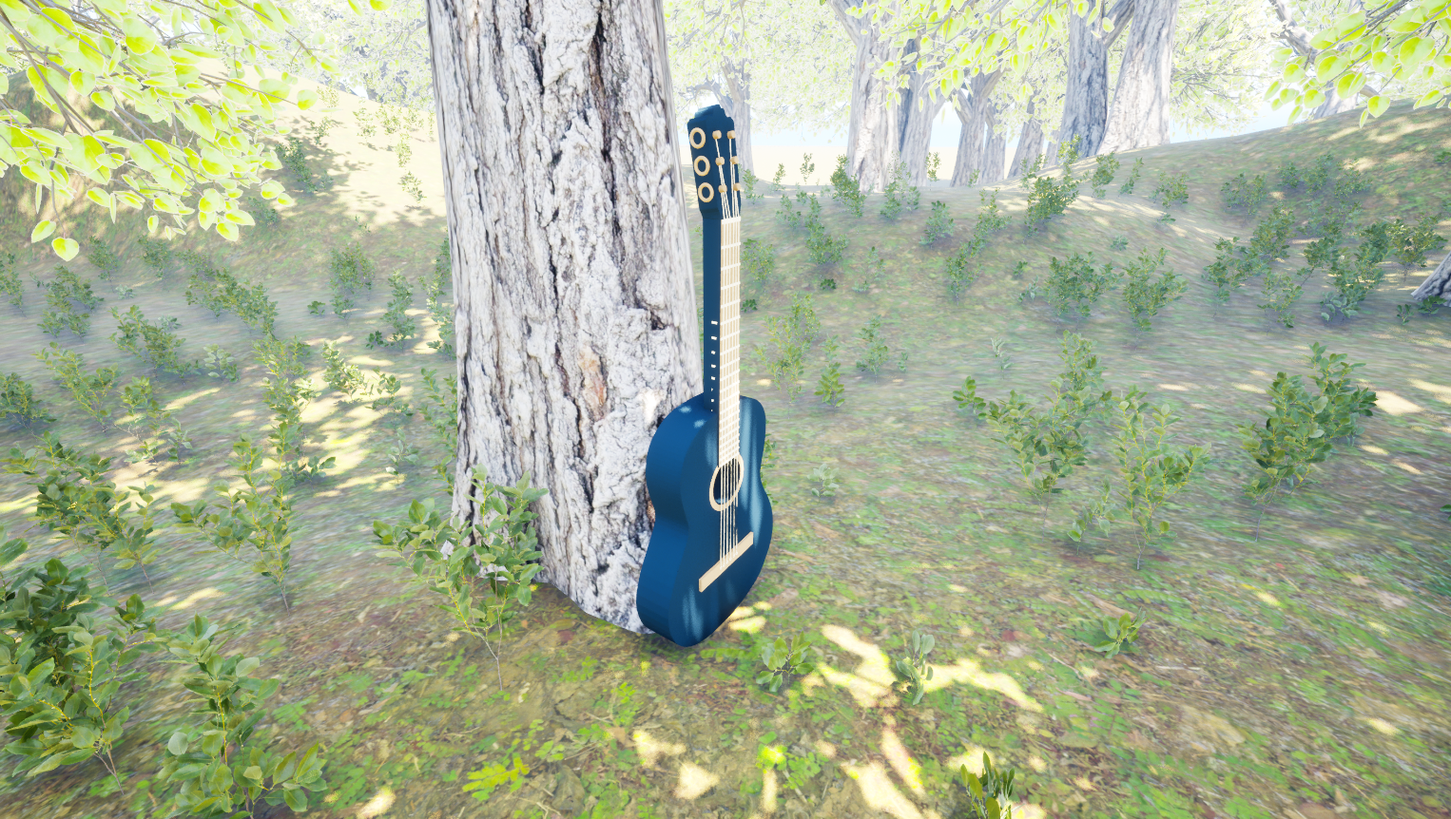Guitar: (598, 97, 792, 679)
